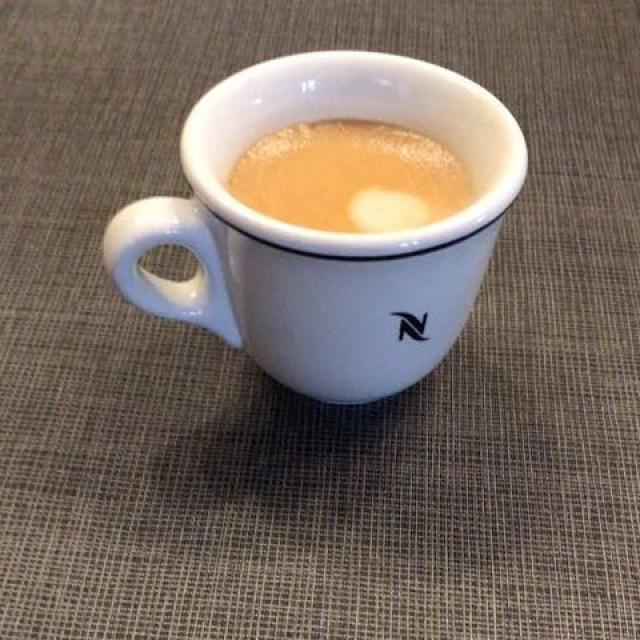espresso: (235, 115, 470, 230)
